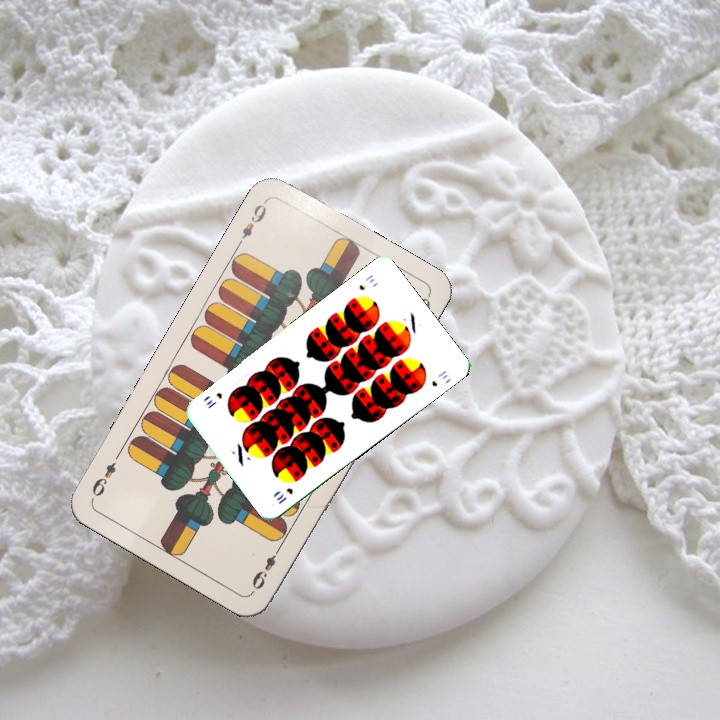E9: (248, 541, 285, 594), (233, 196, 270, 249)
S10: (272, 484, 296, 507), (355, 270, 378, 293)
